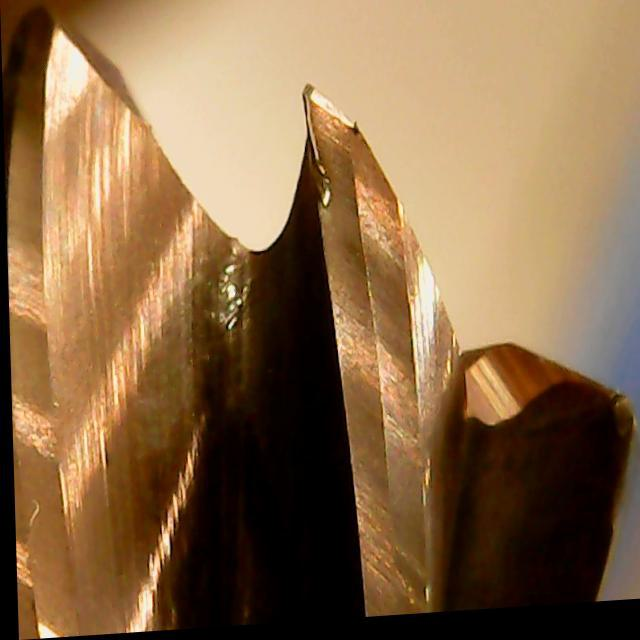Tool-wear-class-1: (280, 82, 395, 358)
